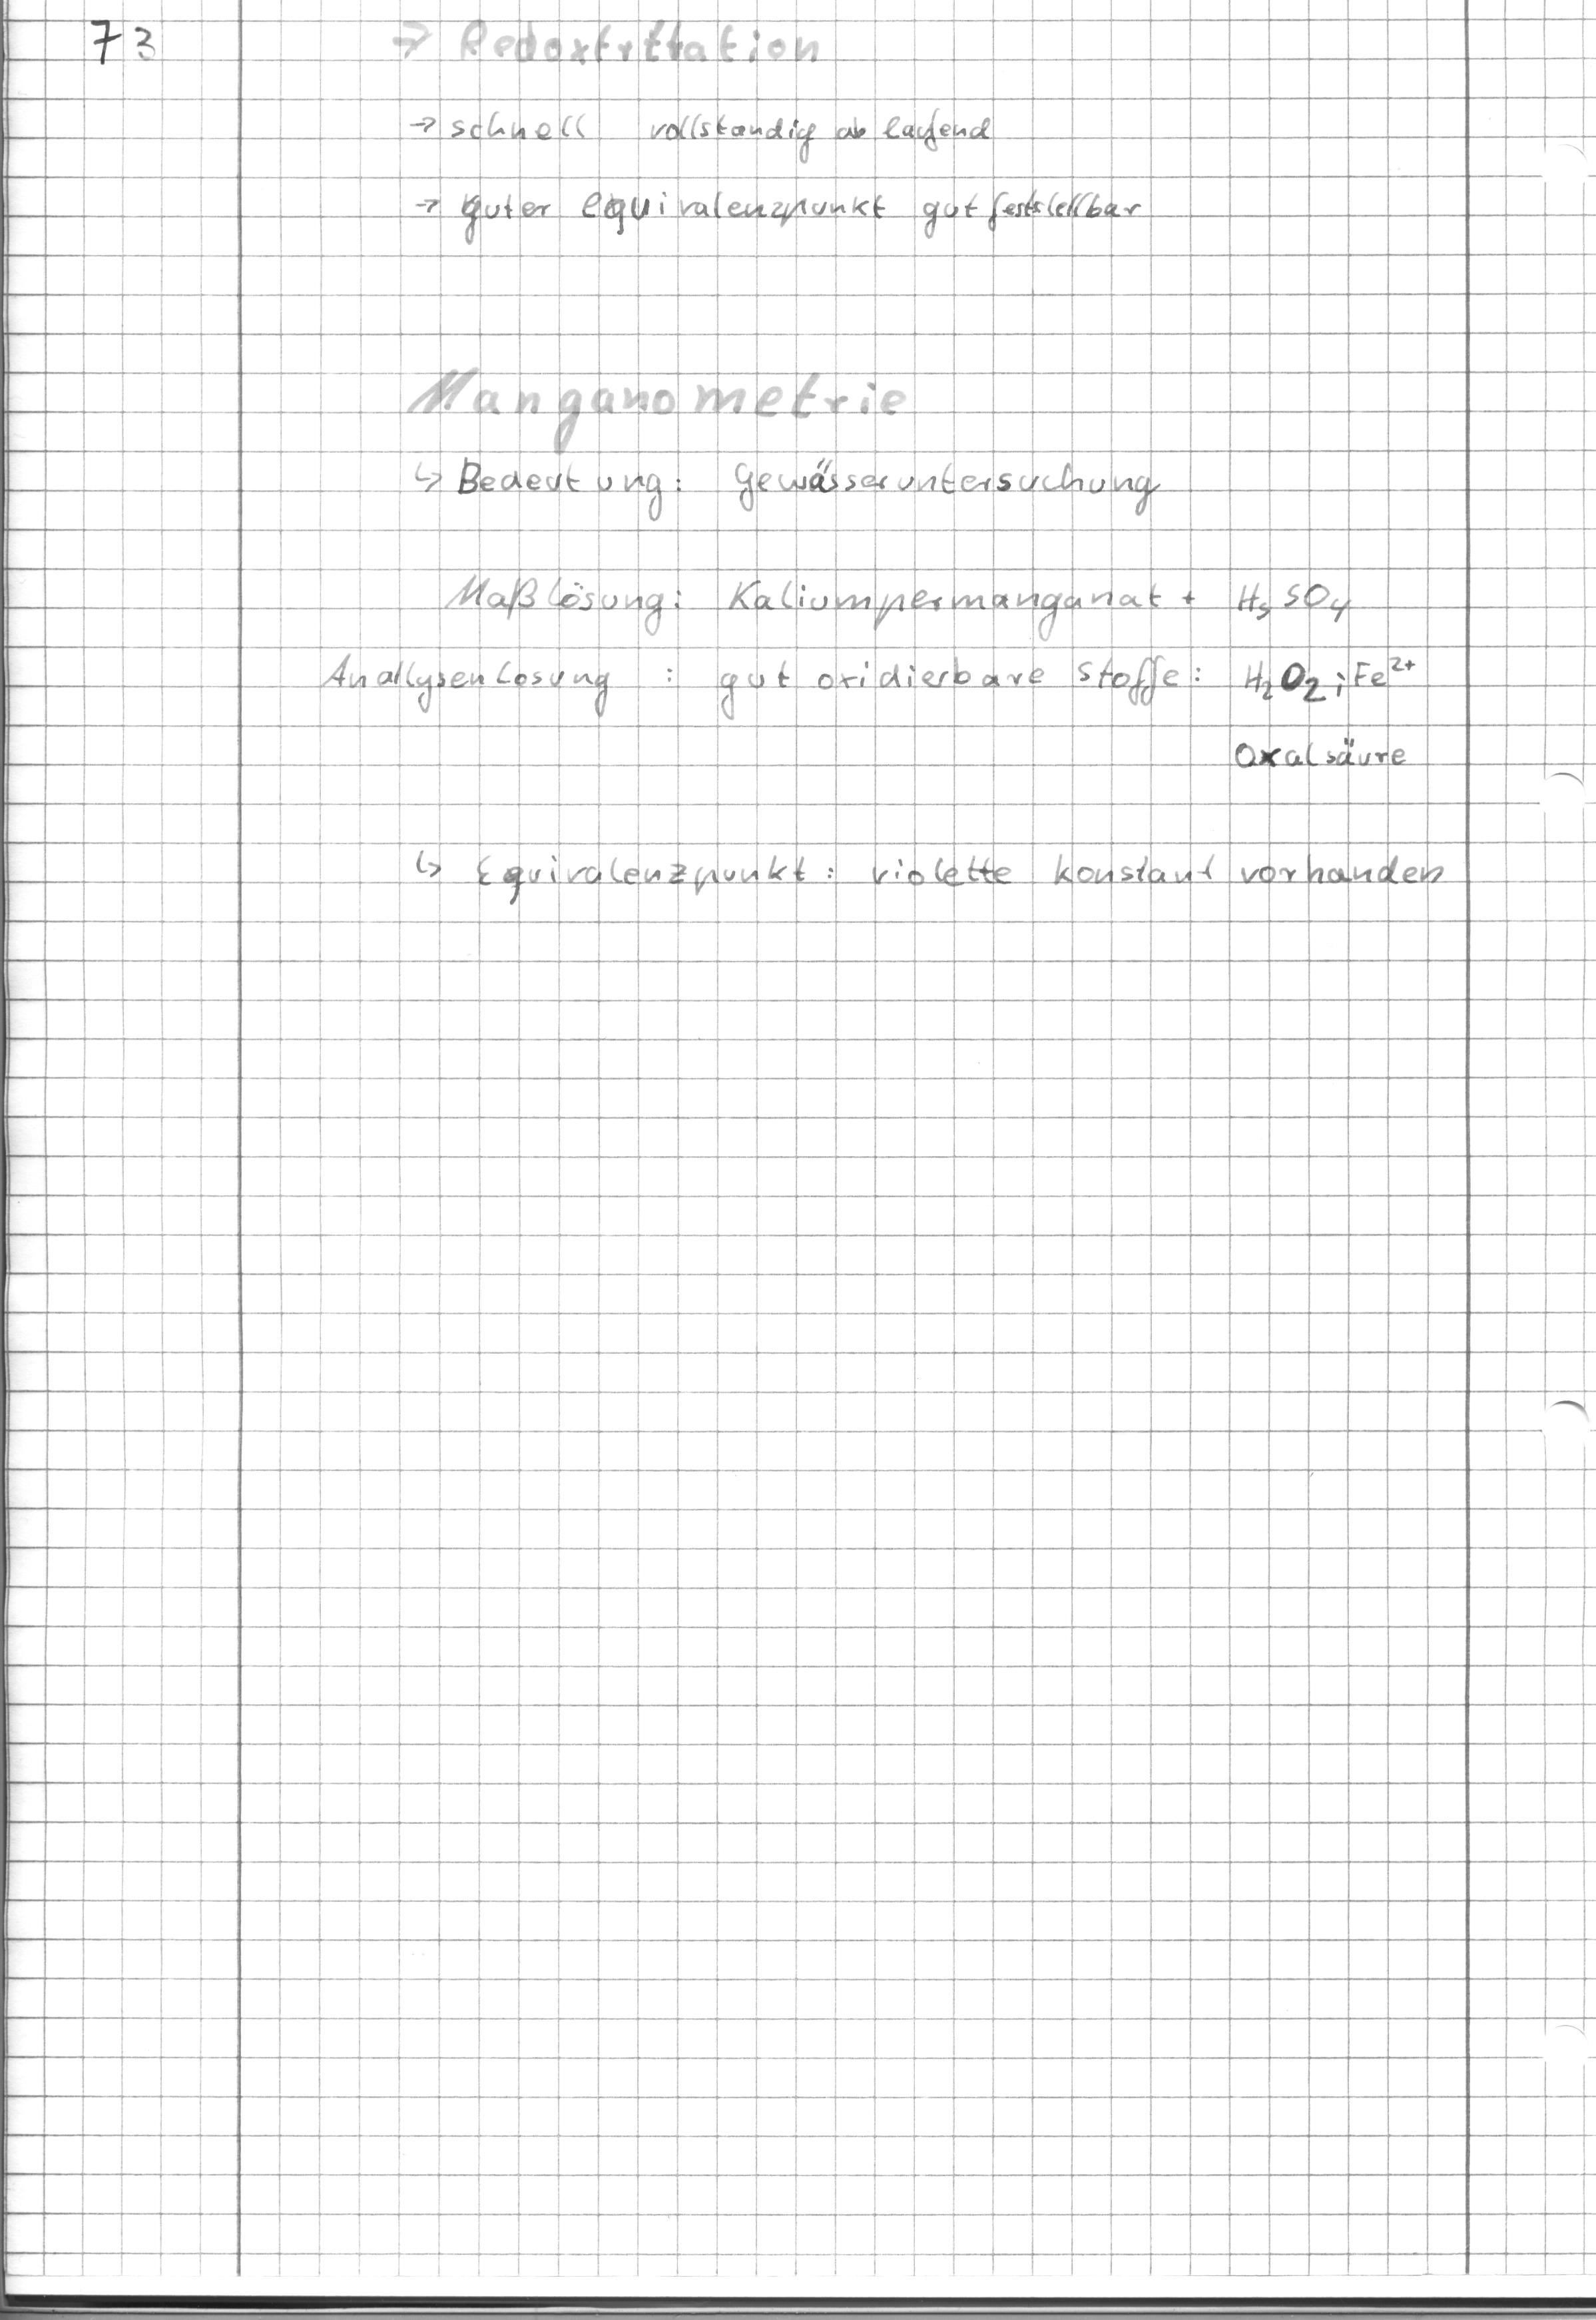word: (308, 634, 1444, 784), (403, 819, 1467, 937), (411, 99, 1163, 255), (429, 561, 1356, 645), (406, 446, 1172, 537), (66, 3, 191, 87)
